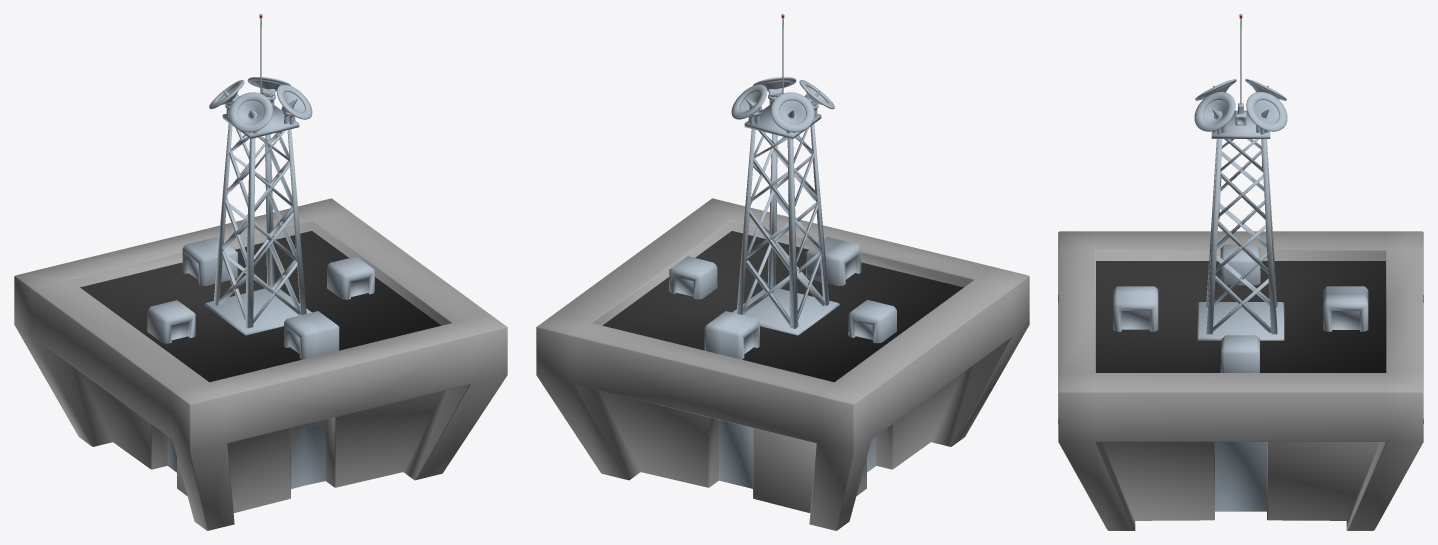
3 renders of one model, left to right at view 1: azimuth 30°, elevation 25°; view 2: azimuth 150°, elevation 25°; view 3: azimuth 270°, elevation 25°, orthographic. The views are drawn at different scales.
Parts seen in each view (by area): view 1: Cube; view 2: Cube; view 3: Cube.
Boxes of the visible parts, bbox=[...] form: Cube: bbox=[14, 14, 507, 530]; Cube: bbox=[536, 14, 1029, 530]; Cube: bbox=[1058, 14, 1423, 530].
Bounding box in the file's own units: 1377 × 1823 × 1320.
